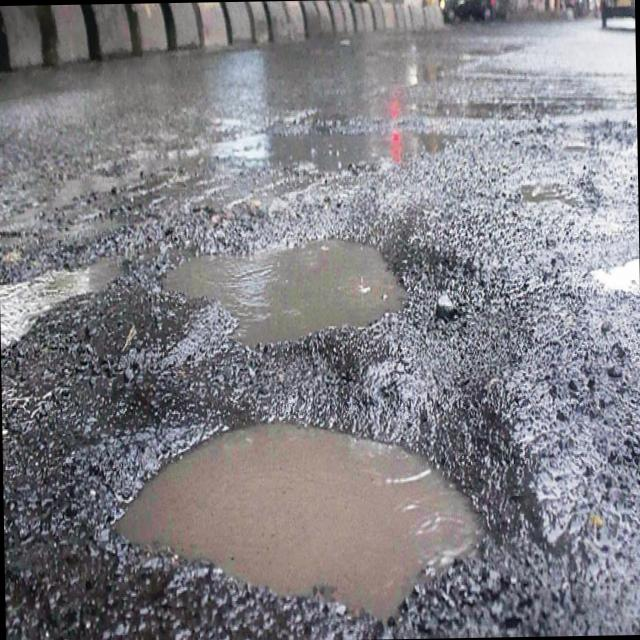Potholes: (100, 398, 538, 620), (163, 220, 463, 372), (0, 226, 134, 375)
